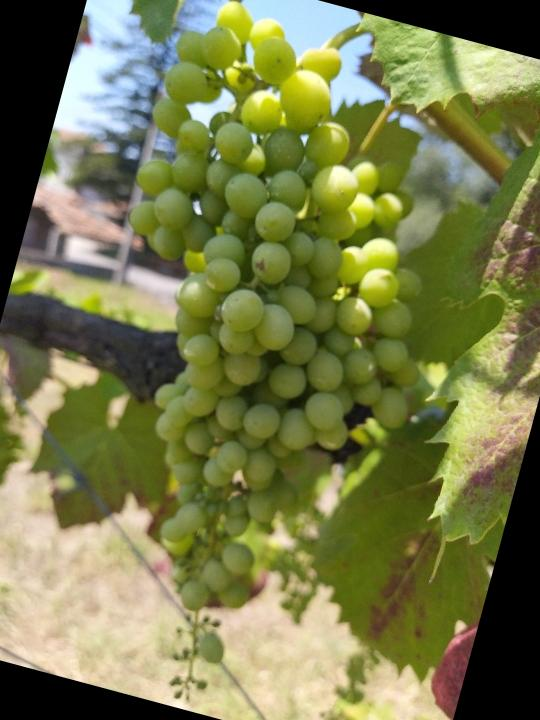grape: (3, 0, 504, 720)
